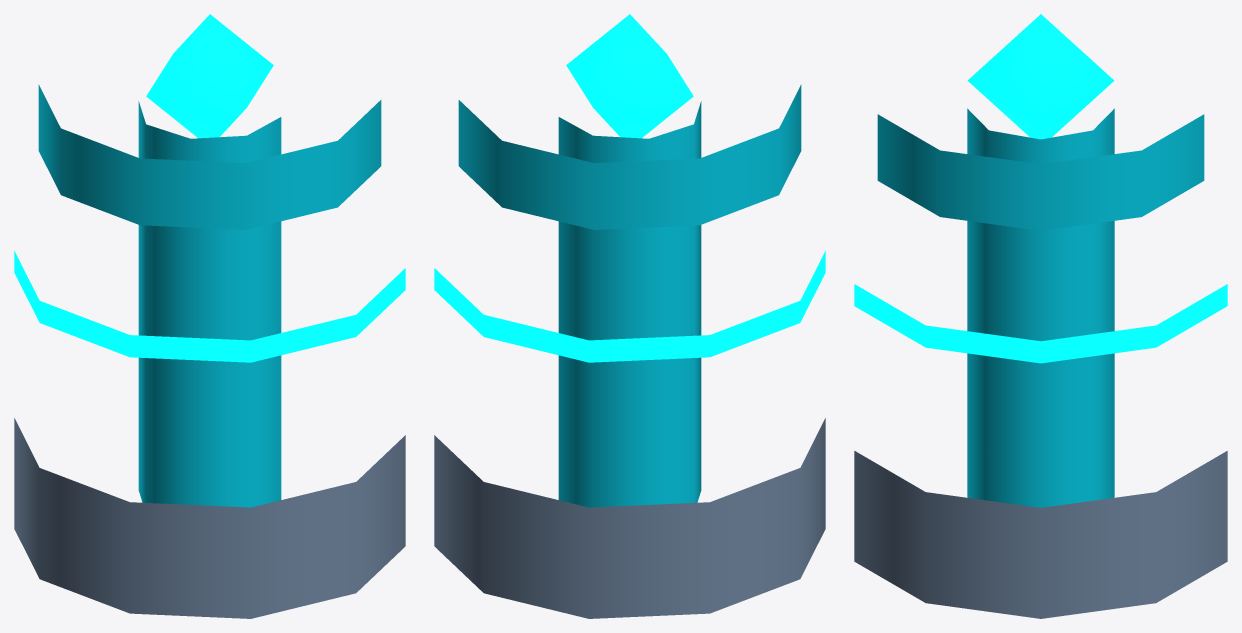
Rendered from bobinas_tesla.glb.
The picture shows the model from 3 angles, left to right: view 1: azimuth 30°, elevation 25°; view 2: azimuth 150°, elevation 25°; view 3: azimuth 270°, elevation 25°; orthographic projection.
Visible parts, largest first — view 1: Accent, Base, Glow; view 2: Accent, Base, Glow; view 3: Accent, Base, Glow.
Part boxes in pixels (left/top/right/bottom): Accent: left=38, top=84, right=381, bottom=507; Base: left=14, top=418, right=405, bottom=618; Glow: left=14, top=14, right=405, bottom=362; Accent: left=458, top=84, right=801, bottom=507; Base: left=434, top=418, right=825, bottom=618; Glow: left=434, top=14, right=825, bottom=362; Accent: left=877, top=108, right=1204, bottom=507; Base: left=854, top=451, right=1227, bottom=618; Glow: left=854, top=14, right=1227, bottom=363.
Size of the model in its own units: 0.32 by 0.47 by 0.3043.
